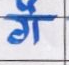au_matra: (19, 0, 45, 42)
